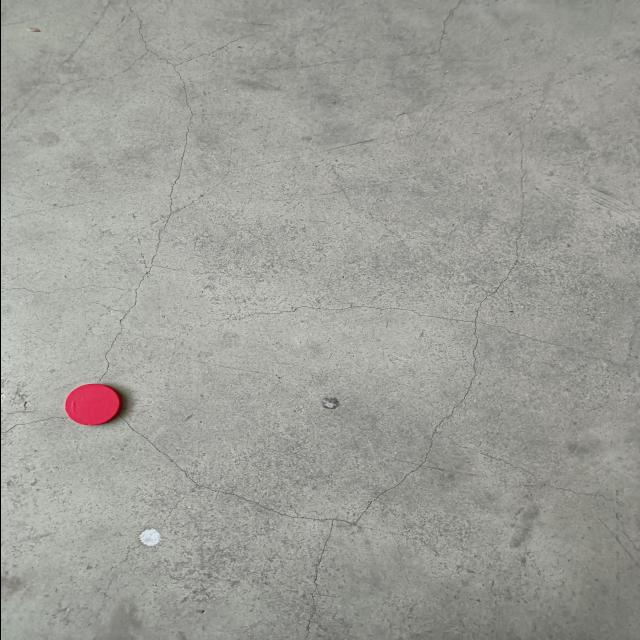chip: (62, 384, 122, 426)
